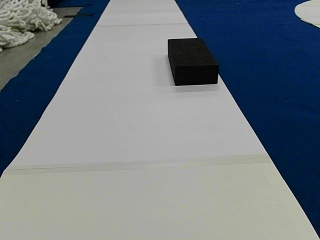block: (168, 36, 218, 85)
